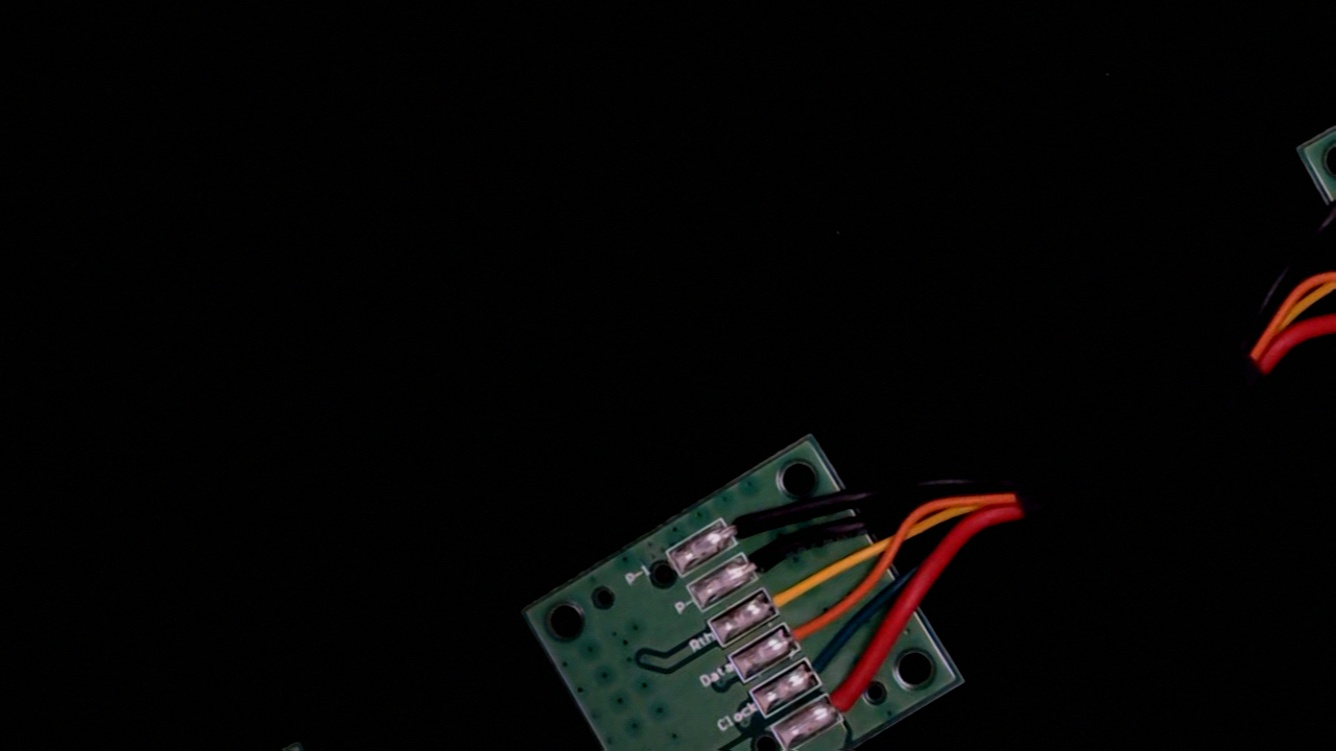Black: (726, 523, 809, 592)
Black1: (702, 491, 780, 556)
Green: (784, 637, 857, 700)
Orange: (765, 596, 846, 663)
Red: (807, 665, 888, 732)
Yellow: (744, 556, 828, 625)
